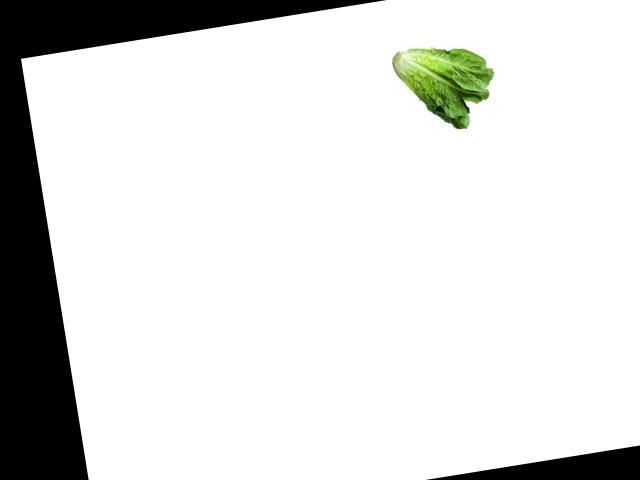lettuce: (392, 31, 502, 143)
